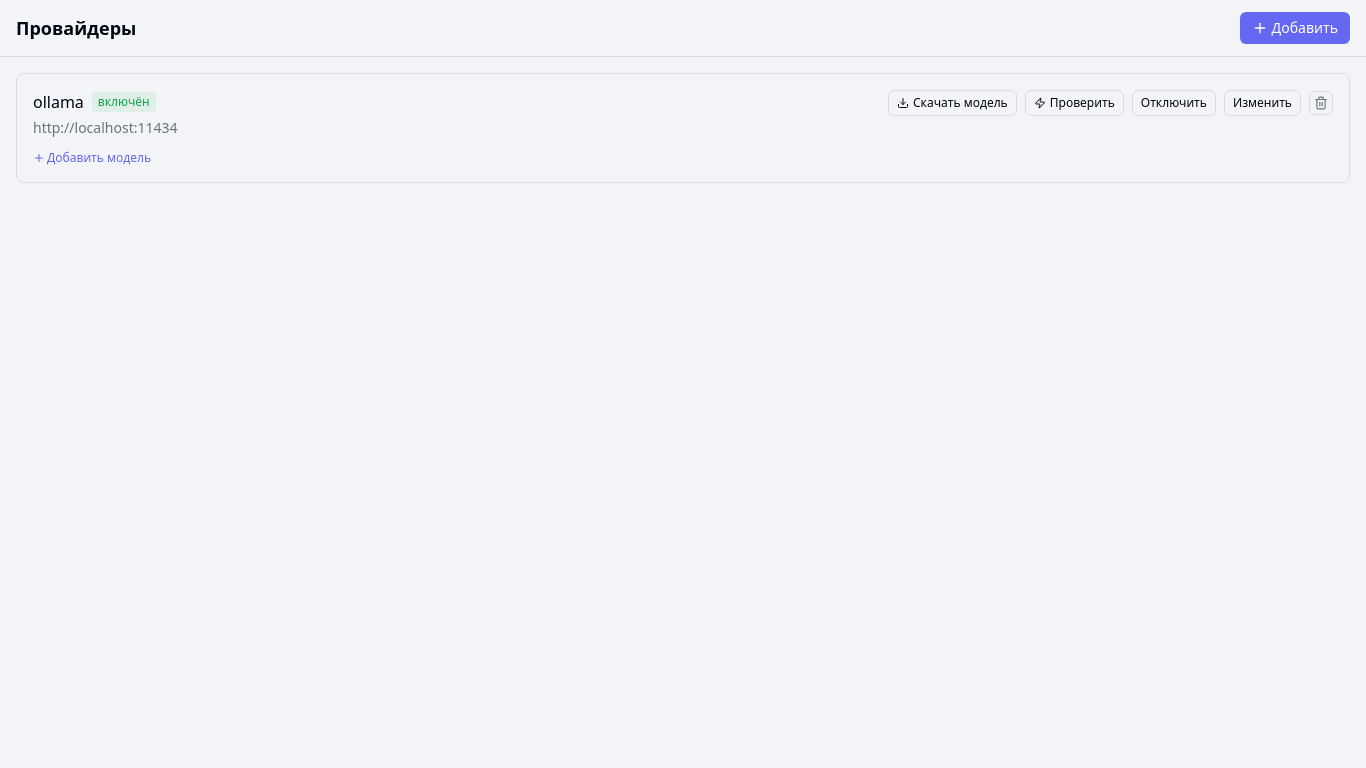
ProvidersPage: скачивание моделей (T-437, часть А) › opens download modal with kind-specific placeholder
The width and height of the screenshot is (1366, 768).
What coordinates should you click on to do the following:
click the button "Скачать модель"
I would click on:
 (952, 103)
Its box is [888, 90, 1017, 116].
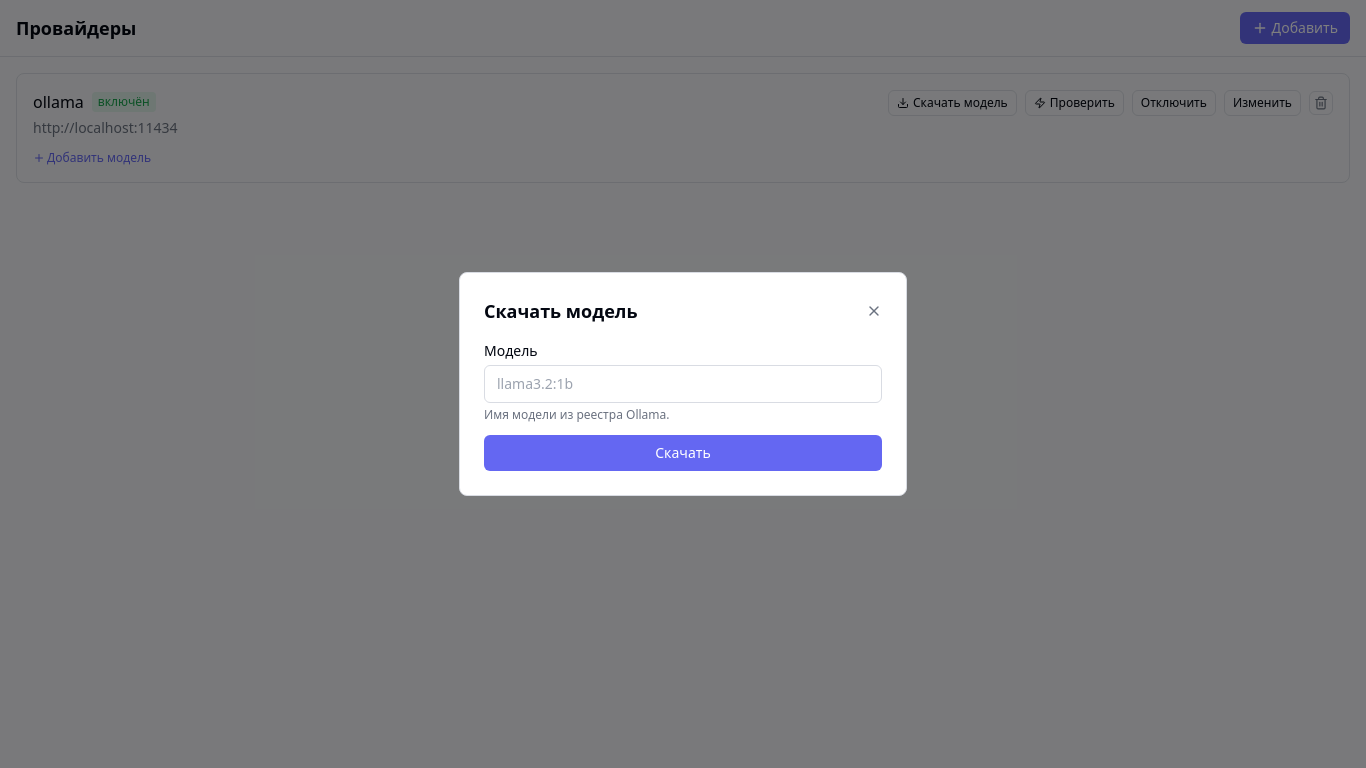
Result: the heading "Скачать модель" is shown at [484, 297, 637, 325]
Result: the field with placeholder "llama3.2:1b" is shown at [484, 365, 882, 403]
